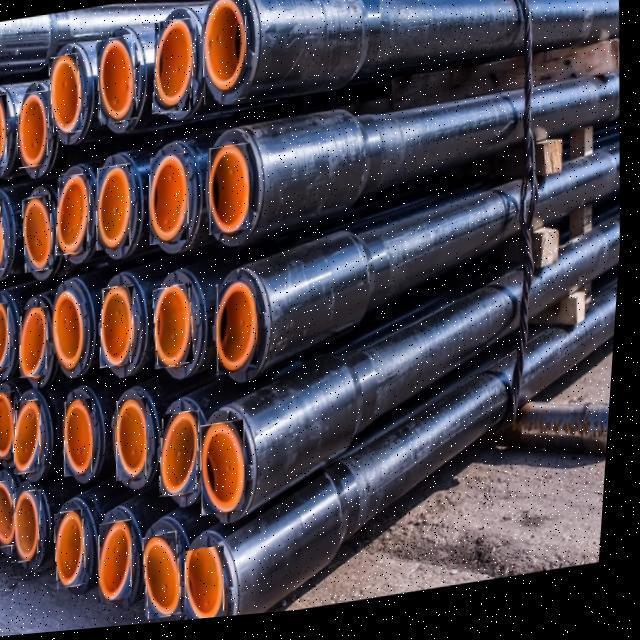pipe: (203, 0, 248, 108), (207, 424, 252, 520), (154, 22, 196, 117), (221, 284, 261, 380), (97, 36, 139, 126), (211, 147, 252, 239), (157, 286, 199, 372), (153, 156, 191, 248), (150, 534, 189, 622), (167, 415, 205, 500), (49, 54, 84, 136), (100, 166, 133, 252), (194, 550, 232, 624), (59, 176, 92, 256), (106, 287, 138, 369), (108, 522, 139, 604), (62, 511, 94, 590), (19, 91, 50, 168), (25, 196, 56, 273), (123, 401, 152, 483), (57, 291, 87, 370), (71, 399, 98, 478), (19, 492, 48, 563), (20, 401, 46, 475), (25, 308, 52, 378), (0, 481, 23, 549), (0, 392, 20, 459), (0, 302, 14, 369), (0, 93, 9, 167), (0, 199, 8, 270)
